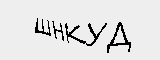Д: (106, 22, 134, 51)
К: (65, 22, 87, 46)
Н: (51, 22, 66, 41)
У: (86, 22, 110, 49)
Ш: (34, 19, 51, 37)
